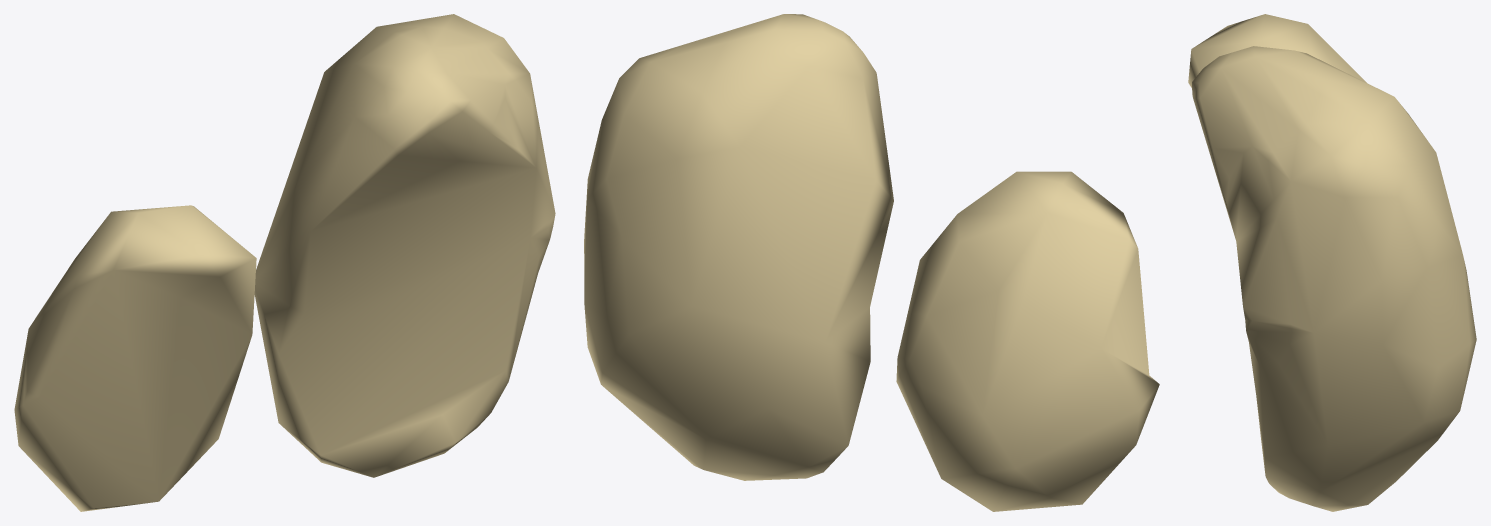
3 views of the same model, side by side, from view 1: azimuth 30°, elevation 25°; view 2: azimuth 150°, elevation 25°; view 3: azimuth 270°, elevation 25° (orthographic). The views are drawn at different scales.
Visible parts, largest first — view 1: 左侧足籽骨; view 2: 左侧足籽骨; view 3: 左侧足籽骨.
Part boxes in pixels (bbox=[...]): 左侧足籽骨: bbox=[14, 14, 555, 511]; 左侧足籽骨: bbox=[584, 14, 1159, 511]; 左侧足籽骨: bbox=[1188, 14, 1476, 511].
Bounding box in the file's own units: 0.0256 × 0.0201 × 0.0118.
